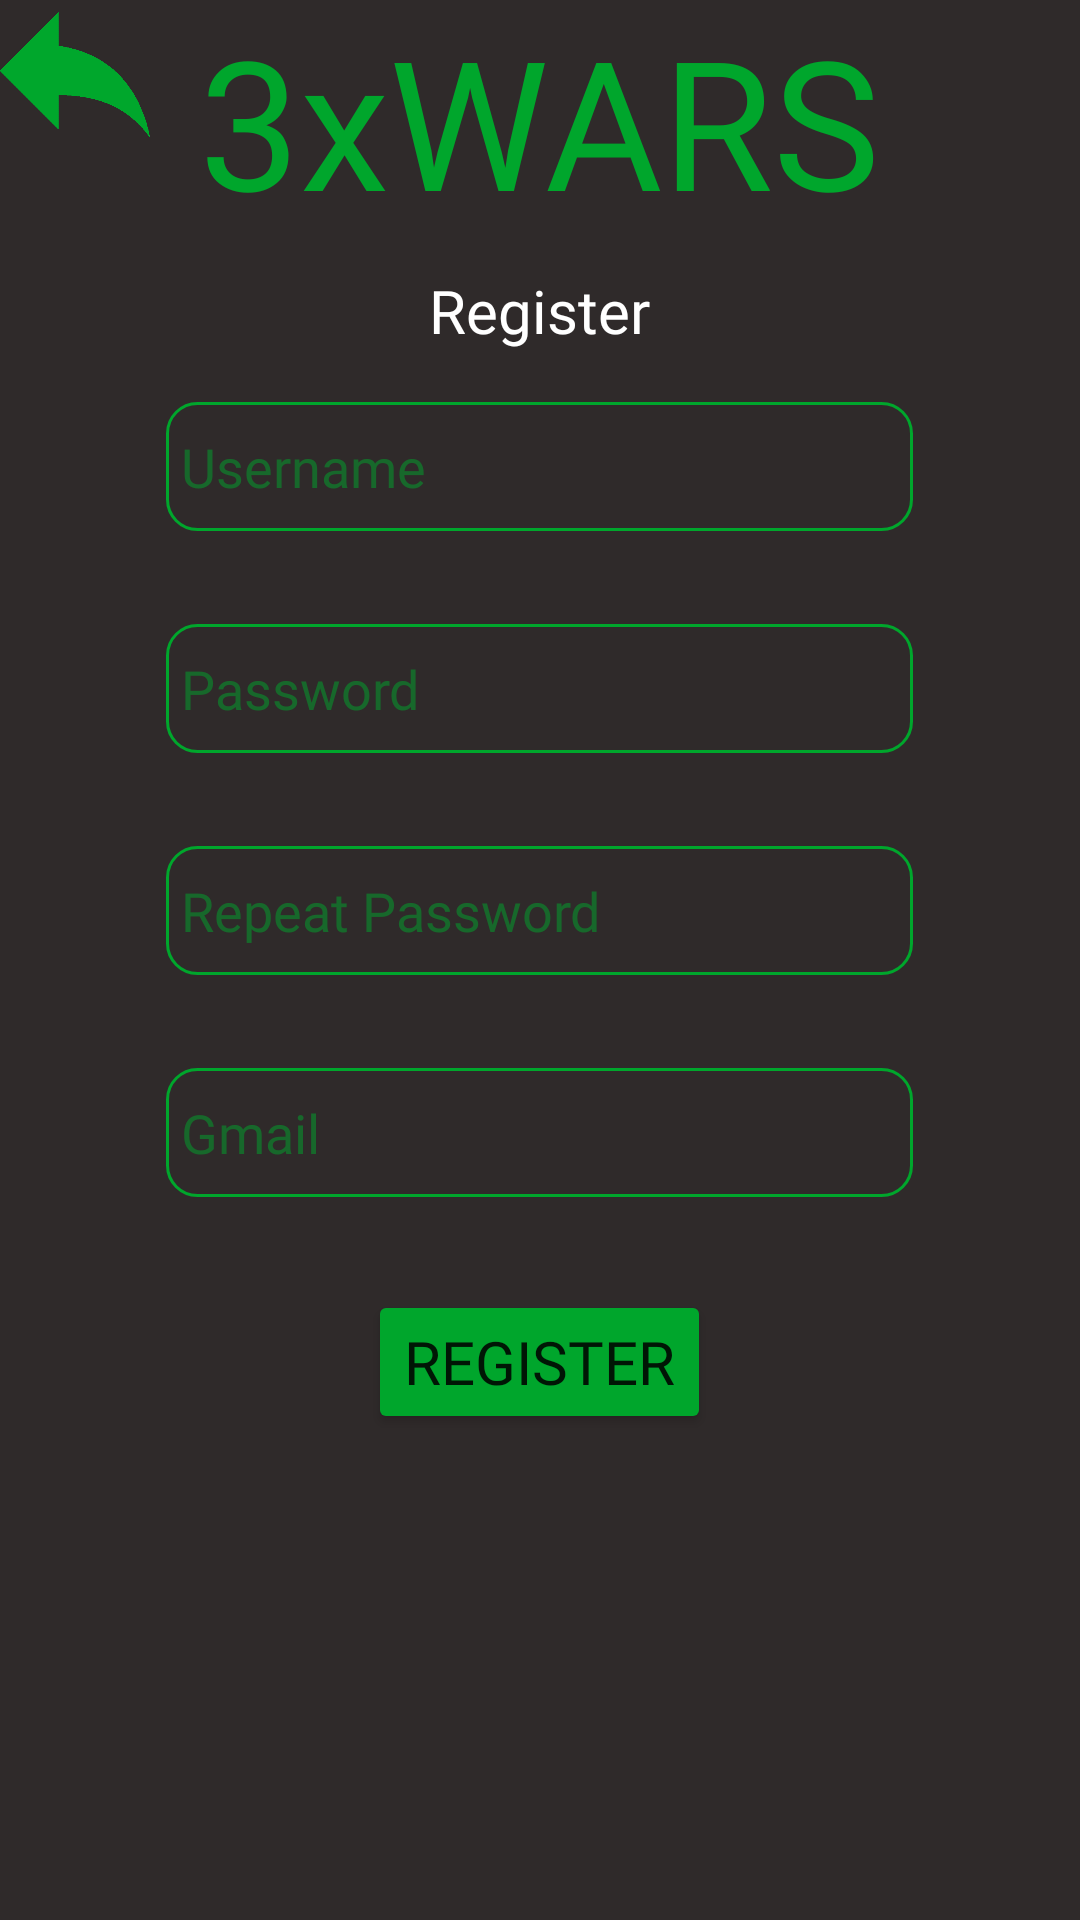

Named icons in this screenshot (1080px×1920px) and their bounding boxes, [left=x1, top=y1, right=x2, bottom=y2]:
flecha: [left=0, top=12, right=150, bottom=137]
